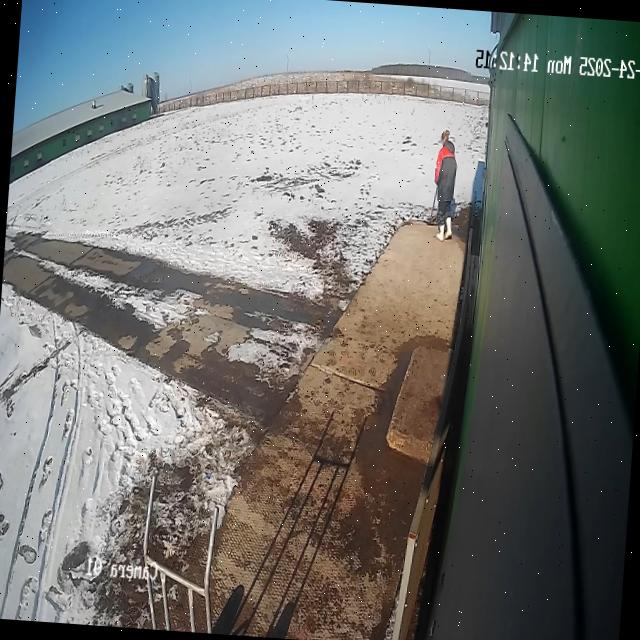Red uniform: (428, 126, 462, 245)
